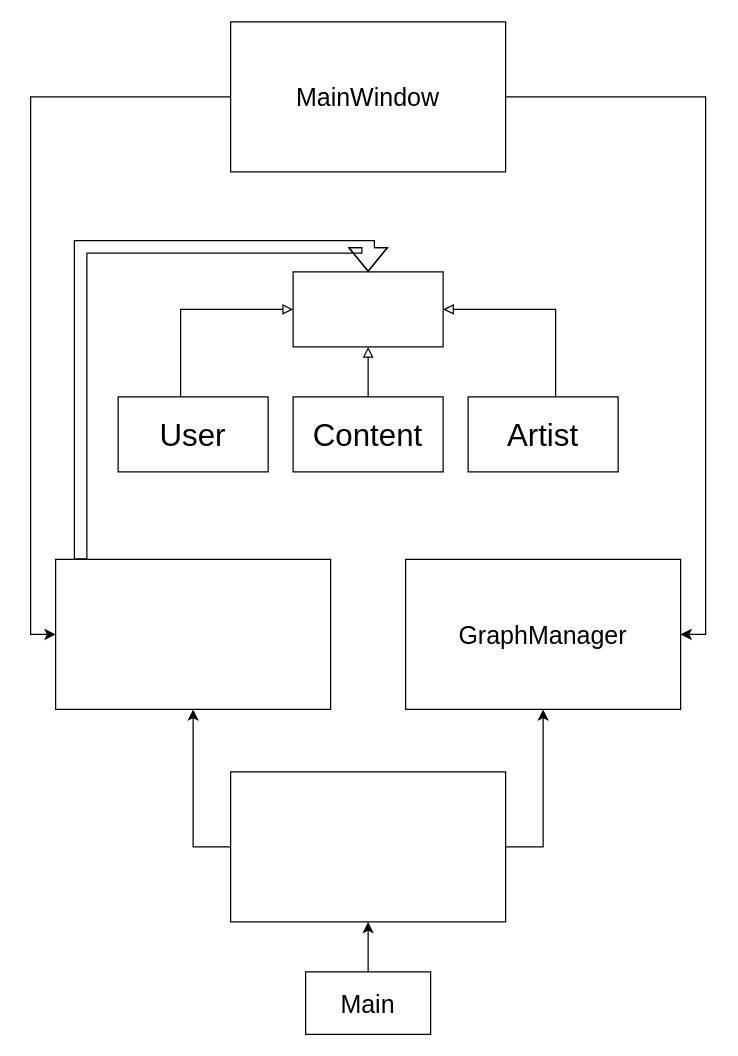
Image size: 738x1056. Some labels were removed from this diagram. Here are the shapes that lost their labels. From the top down, the centre of each, then its label:
At point (367, 309): "Entity".
At point (192, 633): "StreamingDatabase".
At point (367, 846): "StorageRepository".
